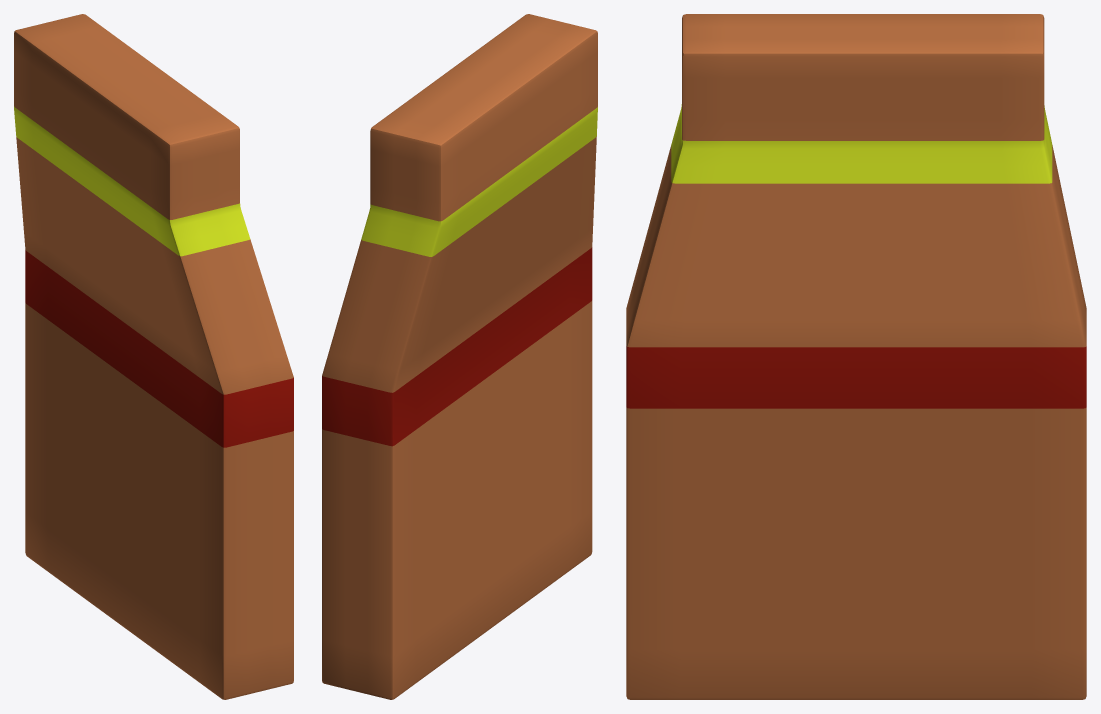
The model's file is PlainExteriorDivideAngled.fbx.
3 views of the same model, side by side, from view 1: azimuth 30°, elevation 25°; view 2: azimuth 150°, elevation 25°; view 3: azimuth 270°, elevation 25° (orthographic). The views are drawn at different scales.
Parts seen in each view (by area): view 1: (Mapped) Plain Exterior divide angled; view 2: (Mapped) Plain Exterior divide angled; view 3: (Mapped) Plain Exterior divide angled.
Part boxes in pixels (box(x1,y1,x2,y2)): (Mapped) Plain Exterior divide angled: box(14, 14, 293, 699); (Mapped) Plain Exterior divide angled: box(322, 14, 597, 699); (Mapped) Plain Exterior divide angled: box(626, 14, 1086, 699).
Size of the model in its own units: 1.57 by 8.11 by 5.36.
